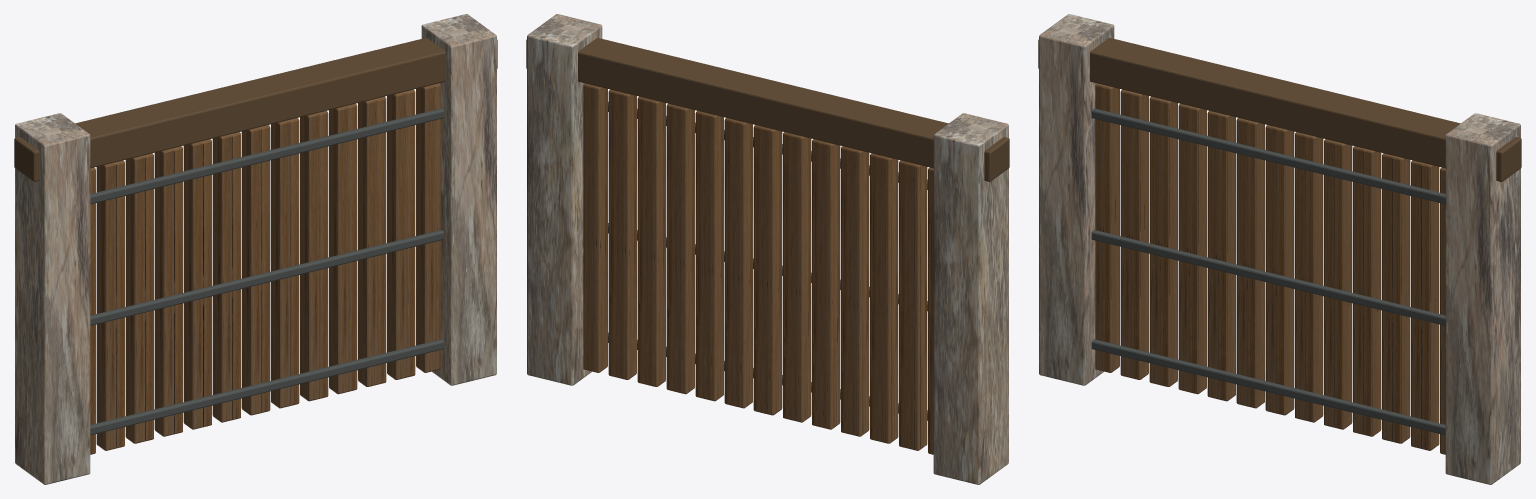
The model's file is gate.glb.
The picture shows the model from 3 angles, left to right: view 1: azimuth 30°, elevation 25°; view 2: azimuth 150°, elevation 25°; view 3: azimuth 330°, elevation 25°; orthographic projection.
Parts seen in each view (by area): view 1: gate plank, stone gate post, gate header, iron strap; view 2: gate plank, stone gate post, gate header; view 3: gate plank, stone gate post, gate header, iron strap.
Boxes of the visible parts, <box> form: gate plank: <box>90,83,440,454</box>; stone gate post: <box>15,14,496,484</box>; gate header: <box>14,37,497,181</box>; iron strap: <box>90,108,444,435</box>; gate plank: <box>583,83,933,454</box>; stone gate post: <box>527,14,1008,484</box>; gate header: <box>526,37,1009,181</box>; gate plank: <box>1095,83,1445,454</box>; stone gate post: <box>1039,14,1520,484</box>; gate header: <box>1038,37,1521,181</box>; iron strap: <box>1091,108,1445,435</box>.
Bounding box in the file's own units: 8 × 5.6 × 0.9.
4 materials, 2 textured.
